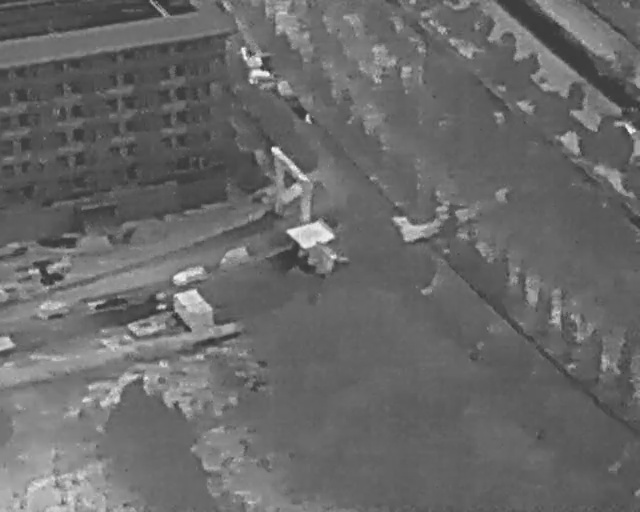Person: (305, 112, 313, 123)
